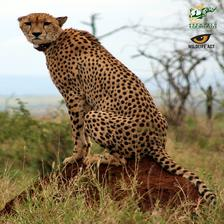Cheetah: (17, 13, 220, 211)
